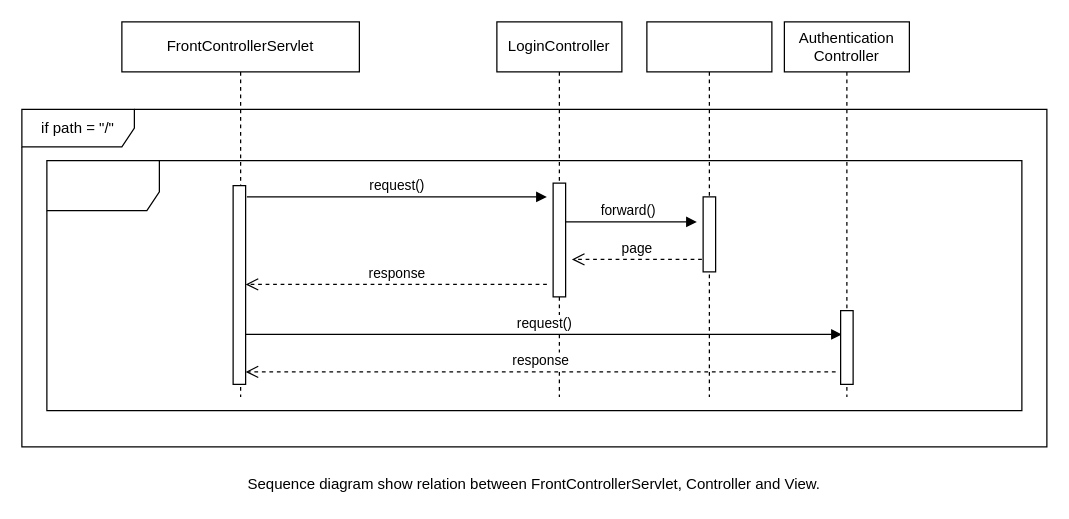
The diagram is 1069 pixels wide and 519 high, and some of its shapes have lost their labels. Here are the shapes that lost their labels. From the top down, the box of each, then its label:
(646, 21, 772, 397): login.jsp
(46, 159, 1022, 411): if not has session username
